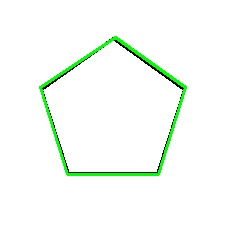line_segment: (40, 37, 187, 176)
